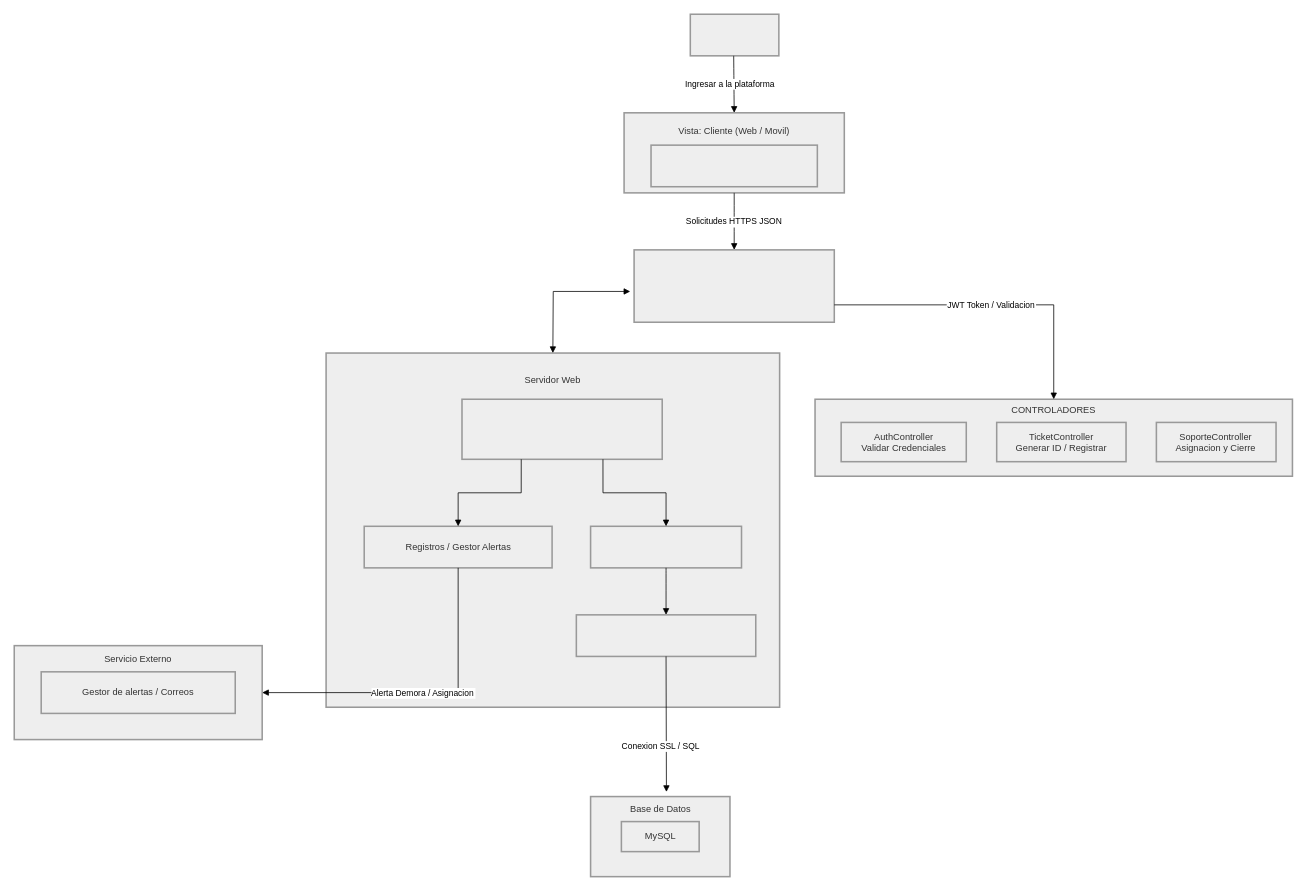
This 1306x890 diagram has some shape labels left out. The centre of each missing label's shape, as x and y in pixels:
"Conexion Base de Datos" belongs at (x=665, y=635).
"Enrutador de Rutas" belongs at (x=665, y=546).
"Navegador Web / App" belongs at (x=734, y=165).
"Servidor HTTP Apache / PHP" belongs at (x=562, y=429).
"Usuario" belongs at (x=734, y=34).
"«Middleware» Body-parser / Validador Integridad" belongs at (x=734, y=286).
